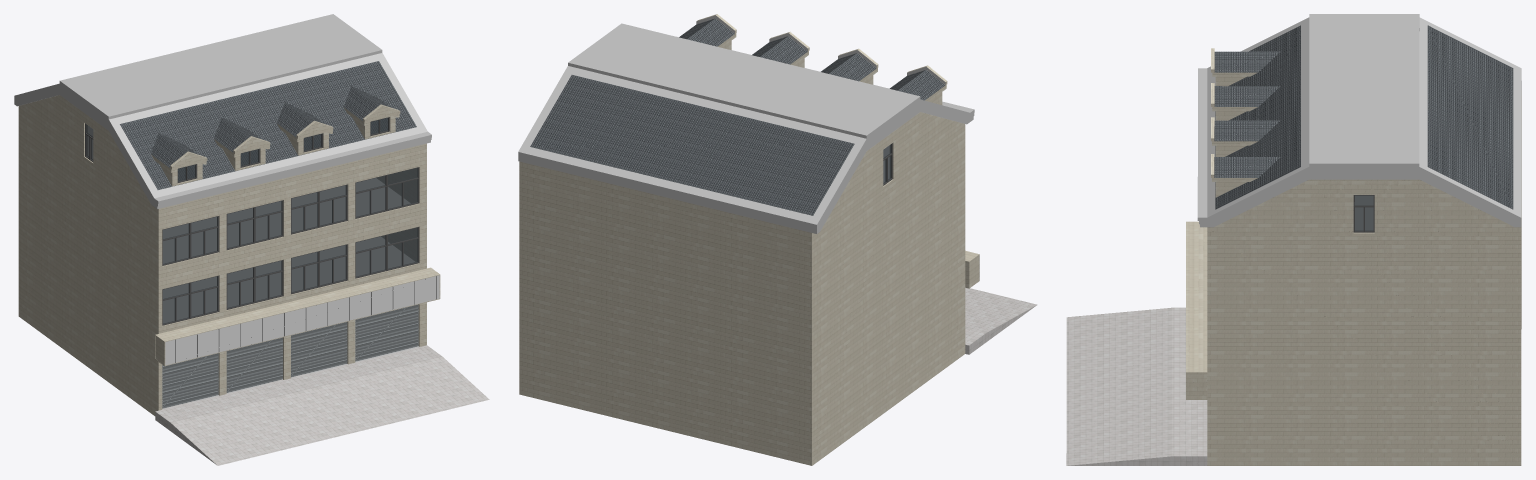
File: gzl_01.FBX
The picture shows the model from 3 angles, left to right: view 1: azimuth 30°, elevation 25°; view 2: azimuth 150°, elevation 25°; view 3: azimuth 270°, elevation 25°; orthographic projection. The views are drawn at different scales.
Parts seen in each view (by area): view 1: Group124, Rectangle072; view 2: Group124; view 3: Group124, Rectangle072.
Part boxes in pixels (box(x1,y1,x2,y2)): Group124: box(14, 14, 489, 465); Rectangle072: box(88, 126, 419, 401); Group124: box(518, 14, 1037, 465); Group124: box(1066, 14, 1521, 465); Rectangle072: box(1355, 196, 1373, 230).
Size of the model in its own units: 15260 by 14250 by 19406.
